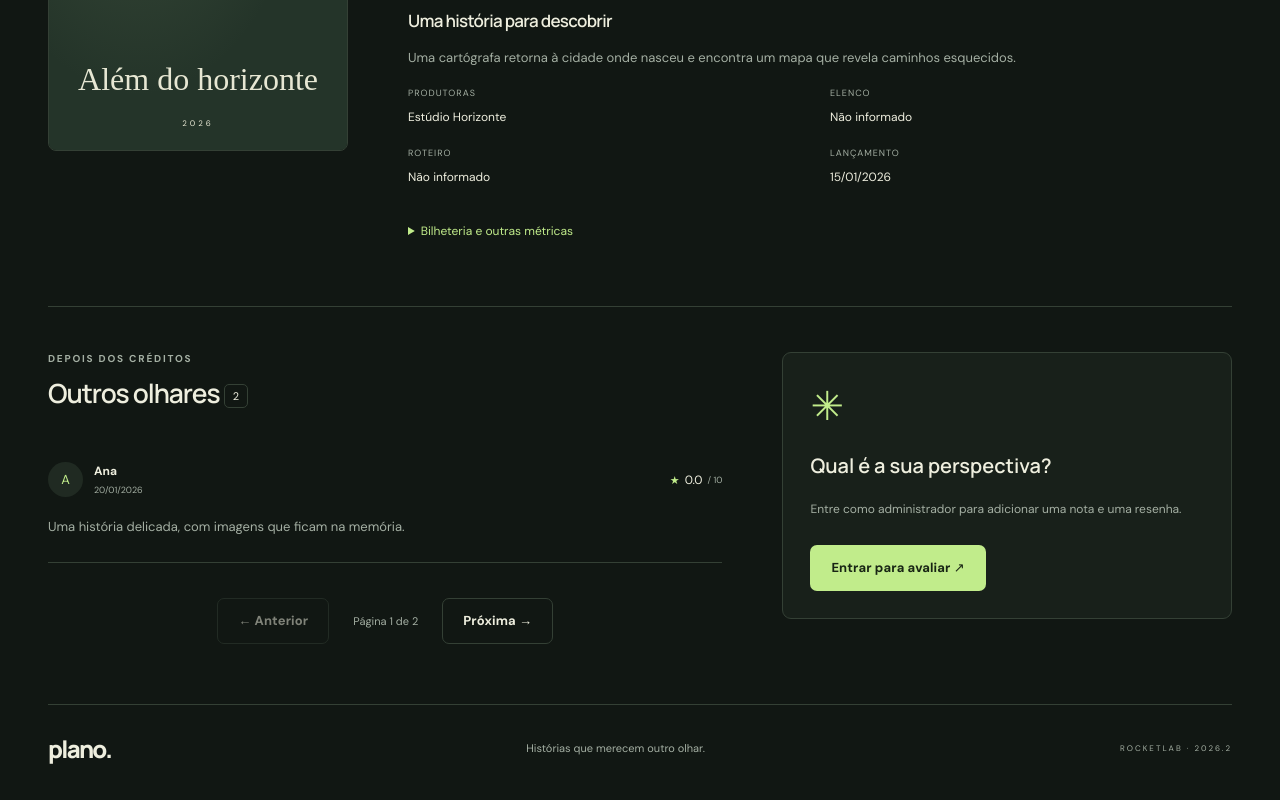
pagina avaliações e apresenta notas zero e decimais
This screenshot has width=1280, height=800.
(page scrolled)
Expected: the text "0.0" is shown, left=685, top=472, right=702, bottom=488
Click the button "Próxima →" at [498, 621], box left=442, top=598, right=553, bottom=644
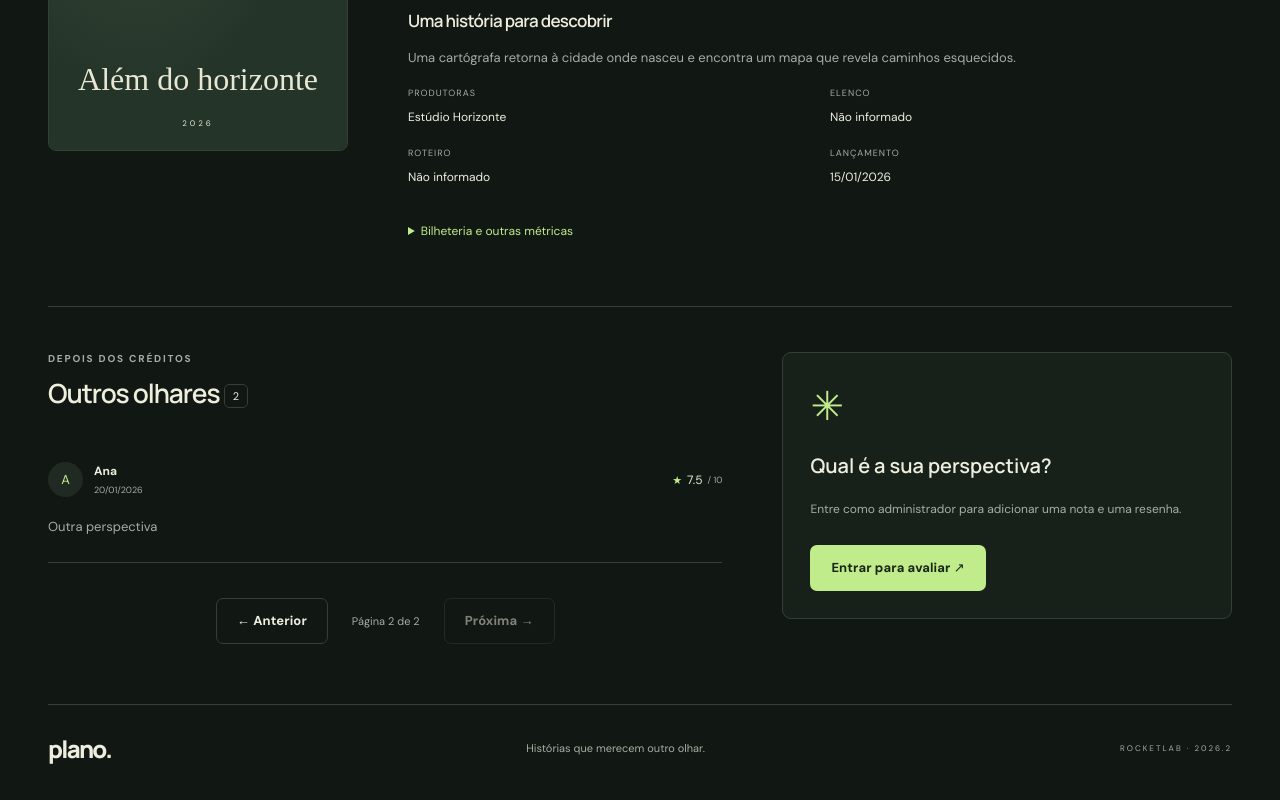
Expected: the text "7.5" is shown, left=687, top=472, right=702, bottom=488
